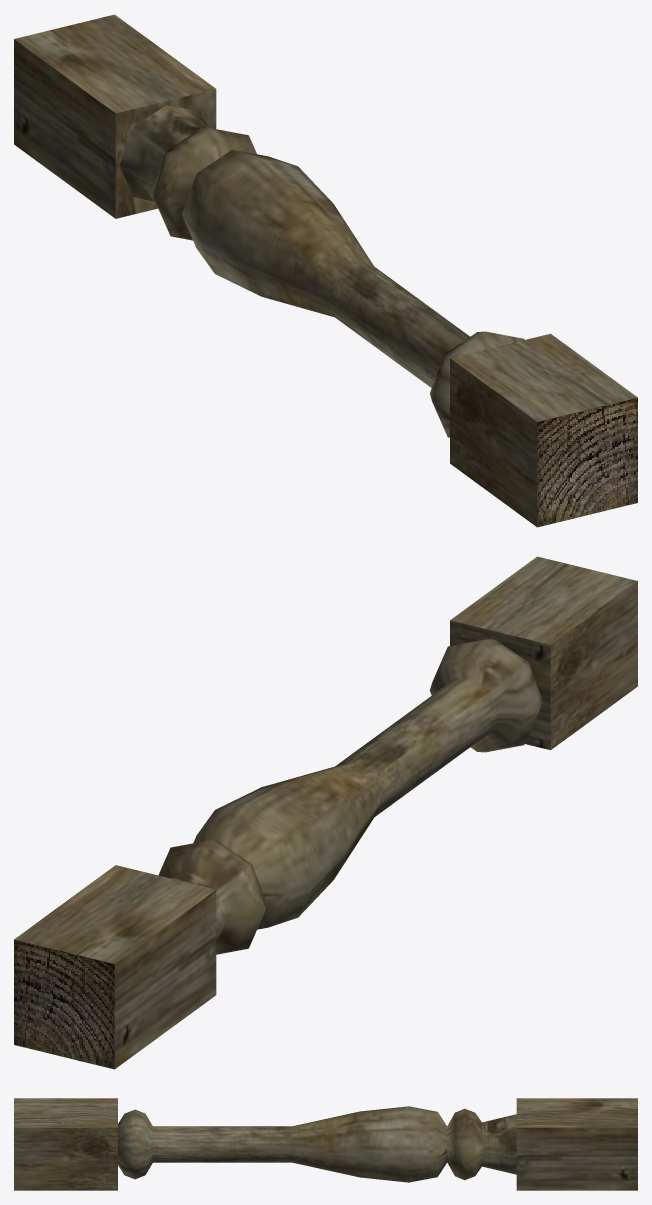
File: egypt_prop_woodrail.glb
The picture shows the model from 3 angles, top to bottom: view 1: azimuth 30°, elevation 25°; view 2: azimuth 150°, elevation 25°; view 3: azimuth 270°, elevation 25°; orthographic projection. The views are drawn at different scales.
Bounding box in the file's own units: 4.68 × 4.68 × 36.
Materials: 2 (2 with a texture image).
